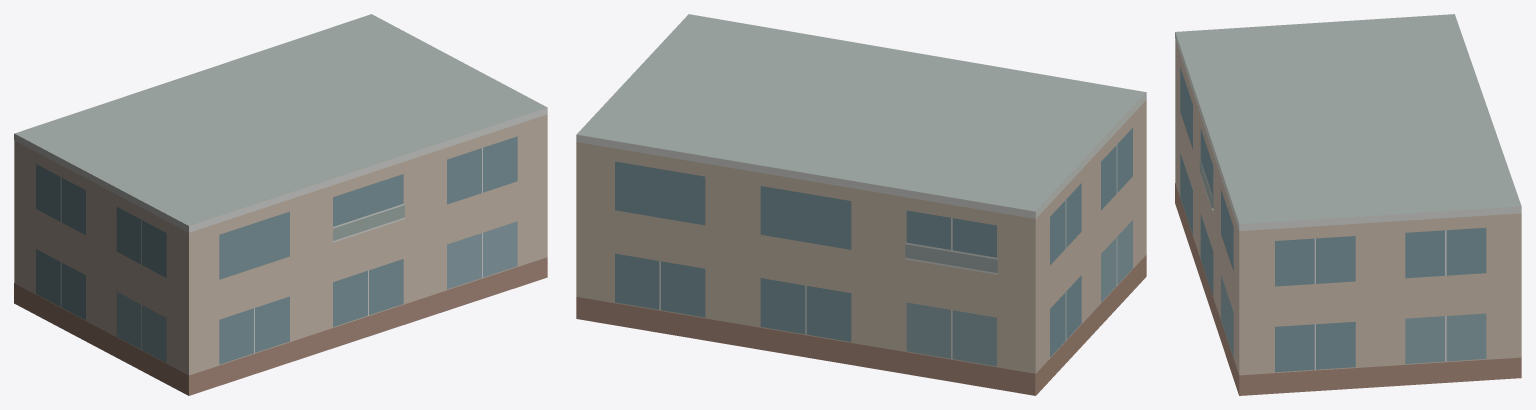
Rendered from survey-upis-32575528.glb.
3 renders of one model, left to right at view 1: azimuth 30°, elevation 25°; view 2: azimuth 150°, elevation 25°; view 3: azimuth 270°, elevation 25°, orthographic. The views are drawn at different scales.
Visible parts, largest first — view 1: survey-upis-32575528.tmp; view 2: survey-upis-32575528.tmp; view 3: survey-upis-32575528.tmp.
Part boxes in pixels (<box>): survey-upis-32575528.tmp: <box>14,14,547,395</box>; survey-upis-32575528.tmp: <box>576,14,1146,395</box>; survey-upis-32575528.tmp: <box>1175,14,1521,395</box>.
Bounding box in the file's own units: 16.05 × 6.1 × 11.17.
